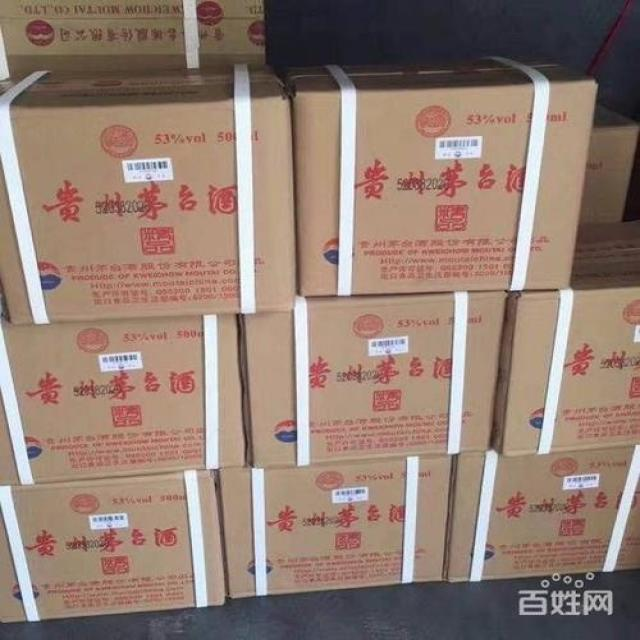box: (274, 51, 595, 296), (0, 67, 295, 325), (0, 283, 248, 485), (238, 291, 505, 468), (0, 470, 229, 625), (491, 219, 639, 456), (218, 455, 456, 599), (443, 445, 639, 581), (0, 0, 265, 79), (577, 101, 639, 227)
